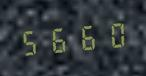five: (18, 24, 44, 58)
six: (45, 22, 71, 56), (72, 20, 98, 53)
zero: (99, 17, 125, 51)
